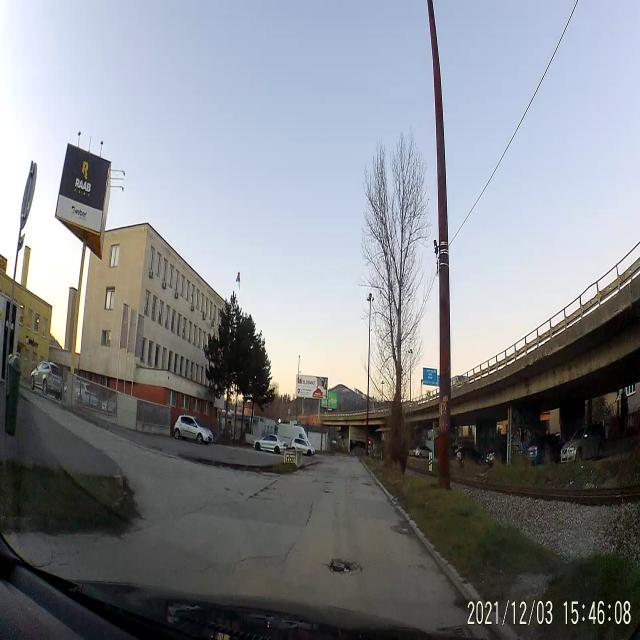Pothole: (325, 555, 360, 580), (390, 519, 416, 539)
